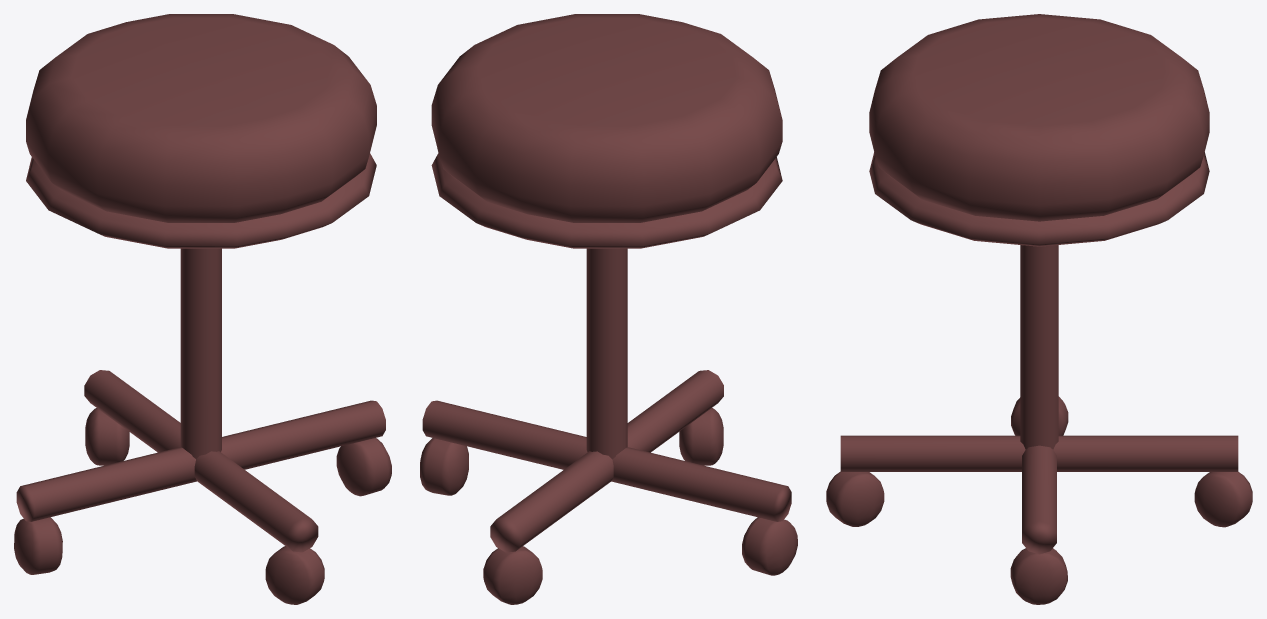
Rendered from stool.fbx.
3 views of the same model, side by side, from view 1: azimuth 30°, elevation 25°; view 2: azimuth 150°, elevation 25°; view 3: azimuth 270°, elevation 25° (orthographic). The views are drawn at different scales.
Parts seen in each view (by area): view 1: stool; view 2: stool; view 3: stool.
Part boxes in pixels (bbox=[...]): stool: bbox=[14, 14, 391, 604]; stool: bbox=[420, 14, 797, 604]; stool: bbox=[826, 14, 1252, 604].
Bounding box in the file's own units: 2.03 × 2.44 × 2.09.
